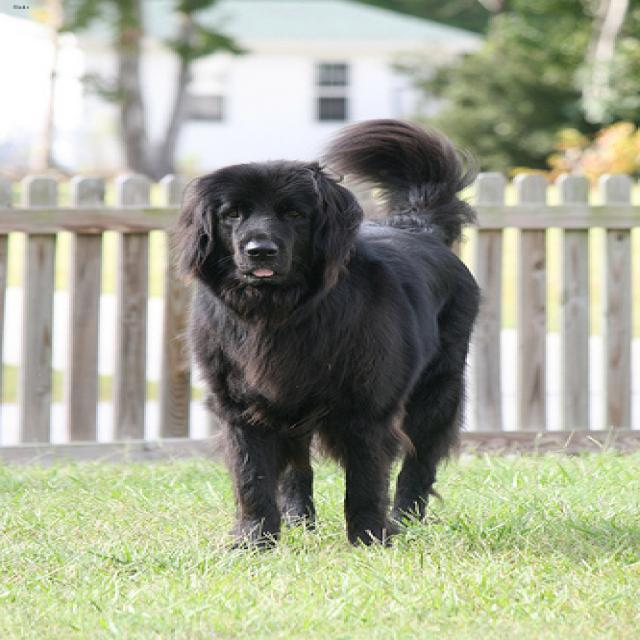dog: (173, 161, 357, 287)
